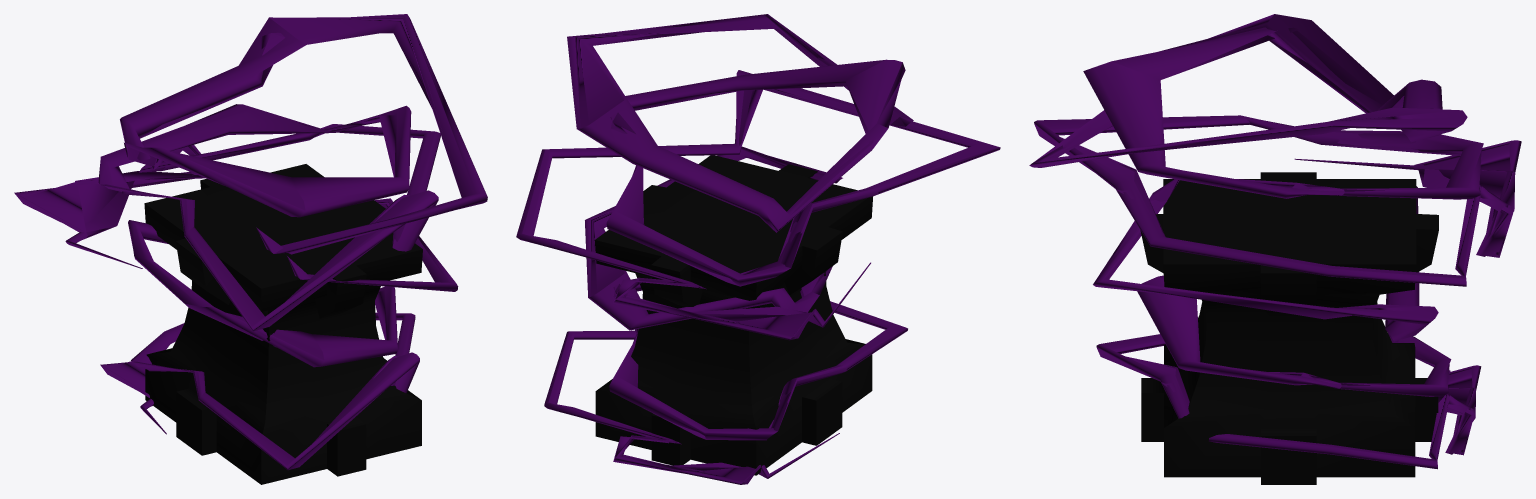
The model's file is stone stand.fbx.
3 renders of one model, left to right at view 1: azimuth 30°, elevation 25°; view 2: azimuth 150°, elevation 25°; view 3: azimuth 270°, elevation 25°, orthographic. The views are drawn at different scales.
Visible parts, largest first — view 1: stand, vine_3, vine_2; view 2: stand, vine_3, vine_2; view 3: stand, vine_3, vine_2.
Boxes of the visible parts, <box> form: stand: <box>144,164,422,484</box>; vine_3: <box>14,14,487,331</box>; vine_2: <box>100,198,458,470</box>; stand: <box>594,155,872,475</box>; vine_3: <box>516,14,1000,340</box>; vine_2: <box>544,146,907,484</box>; stand: <box>1140,172,1438,484</box>; vine_3: <box>1029,14,1521,286</box>; vine_2: <box>1093,179,1481,469</box>.
Bounding box in the file's own units: 5.03 × 5.15 × 5.85.
